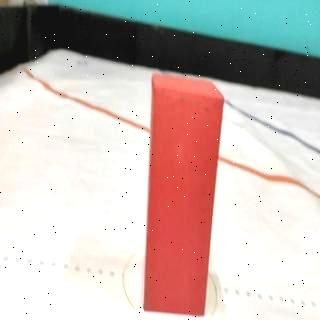greenbox: (142, 74, 225, 315)
